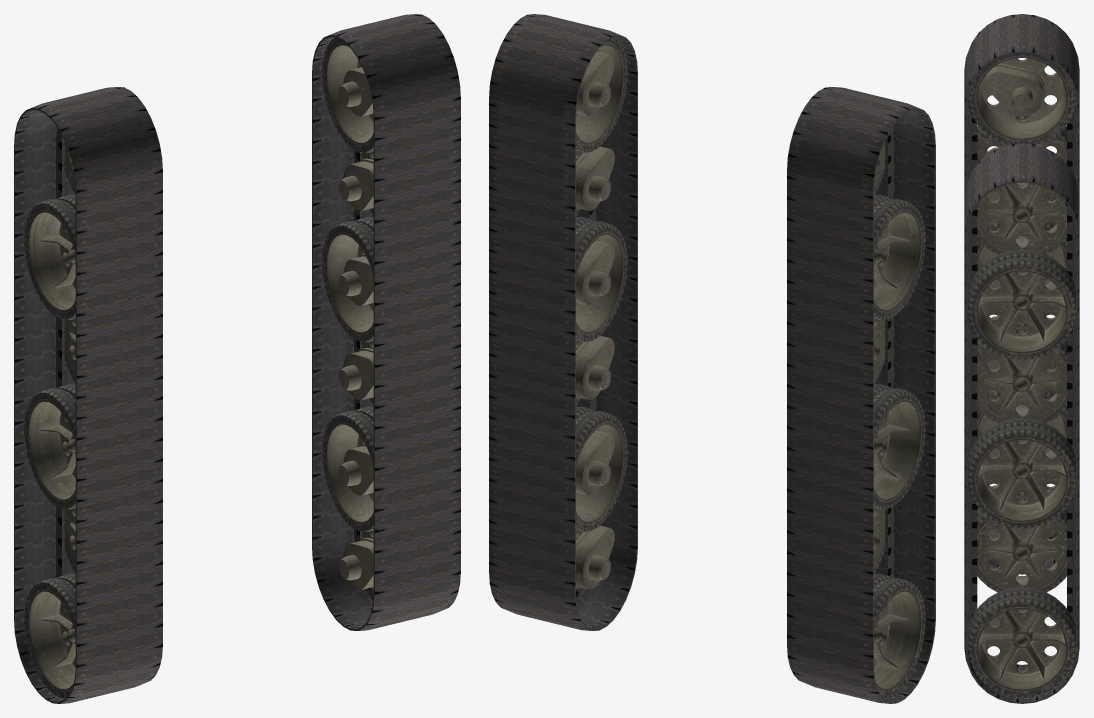
The model's file is Chassis.glb.
The picture shows the model from 3 angles, left to right: view 1: azimuth 30°, elevation 25°; view 2: azimuth 150°, elevation 25°; view 3: azimuth 270°, elevation 25°; orthographic projection. The views are drawn at different scales.
Visible parts, largest first — view 1: set_0_group_0, set_1_group_0, set_3_group_0, set_2_group_0; view 2: set_0_group_0, set_1_group_0, set_3_group_0, set_2_group_0; view 3: set_3_group_0, set_1_group_0, set_2_group_0, set_0_group_0.
Boxes of the visible parts, box(x1,y1,x2,y2) form: set_0_group_0: box(14, 87, 162, 703); set_1_group_0: box(312, 14, 460, 630); set_3_group_0: box(322, 37, 373, 589); set_2_group_0: box(24, 141, 75, 698); set_0_group_0: box(787, 87, 935, 703); set_1_group_0: box(489, 14, 637, 630); set_3_group_0: box(576, 37, 627, 589); set_2_group_0: box(874, 141, 925, 698); set_3_group_0: box(968, 182, 1076, 697); set_1_group_0: box(964, 143, 1079, 703); set_2_group_0: box(968, 53, 1076, 537); set_0_group_0: box(964, 14, 1079, 574).
Size of the model in its own units: 2.95 by 4.33 by 0.8593.
Materials: 4 (4 with a texture image).
